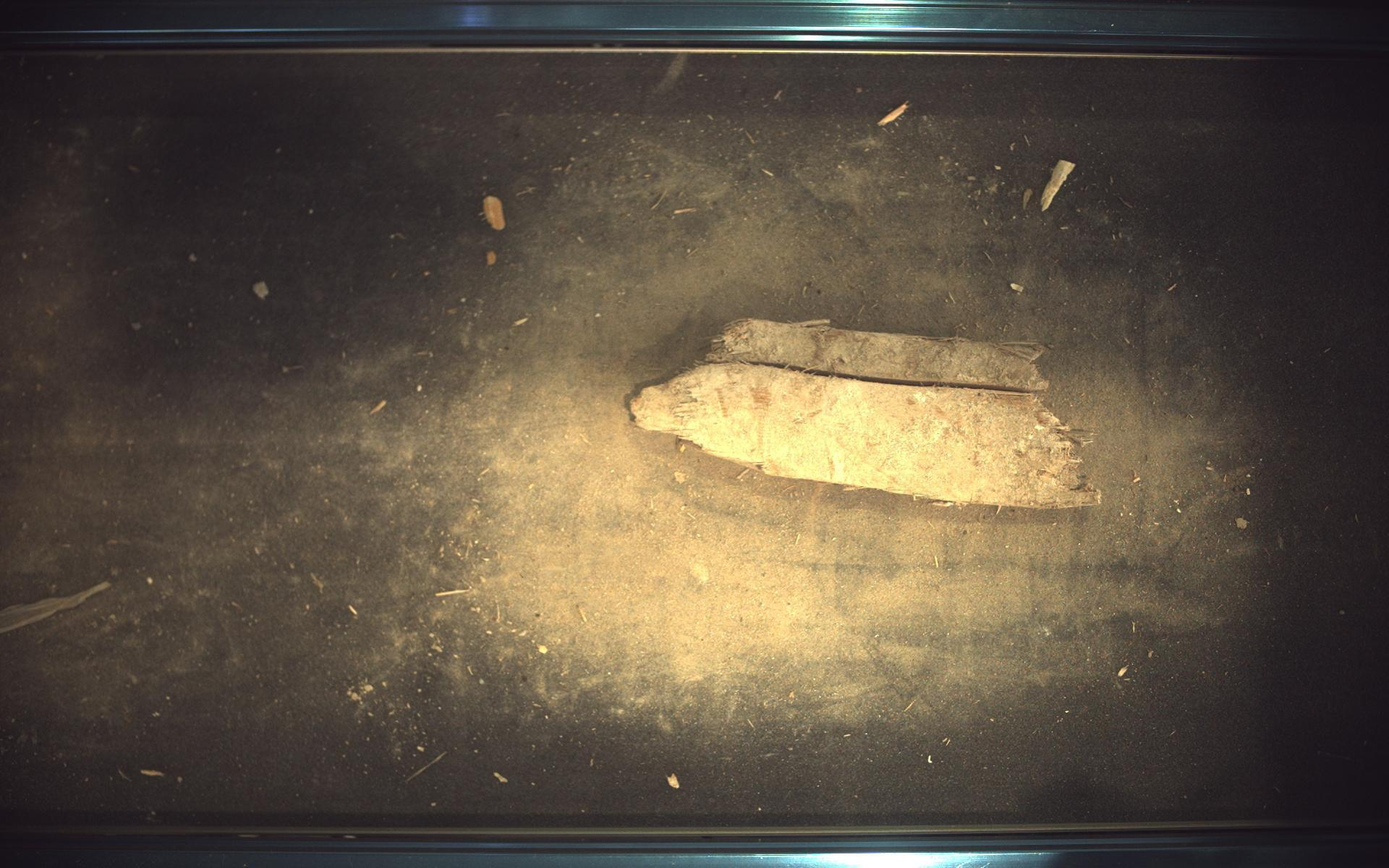wood: (631, 318, 1103, 508)
